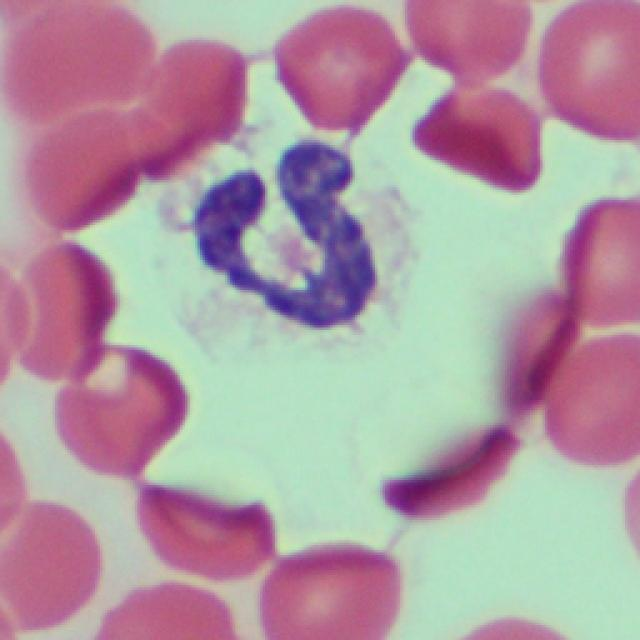RBC: (0, 0, 159, 234), (135, 424, 278, 604), (512, 310, 638, 470), (52, 341, 188, 480), (265, 0, 402, 132), (404, 72, 542, 196), (6, 230, 112, 390), (530, 0, 635, 138), (252, 539, 394, 639), (551, 193, 637, 347), (0, 500, 93, 639), (148, 44, 244, 147)
WBC: (194, 146, 400, 337)
